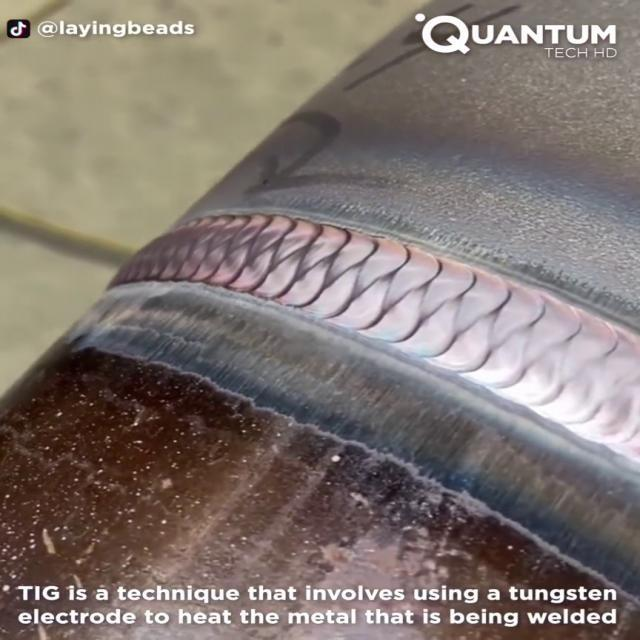Good Weld: (152, 194, 634, 341)
